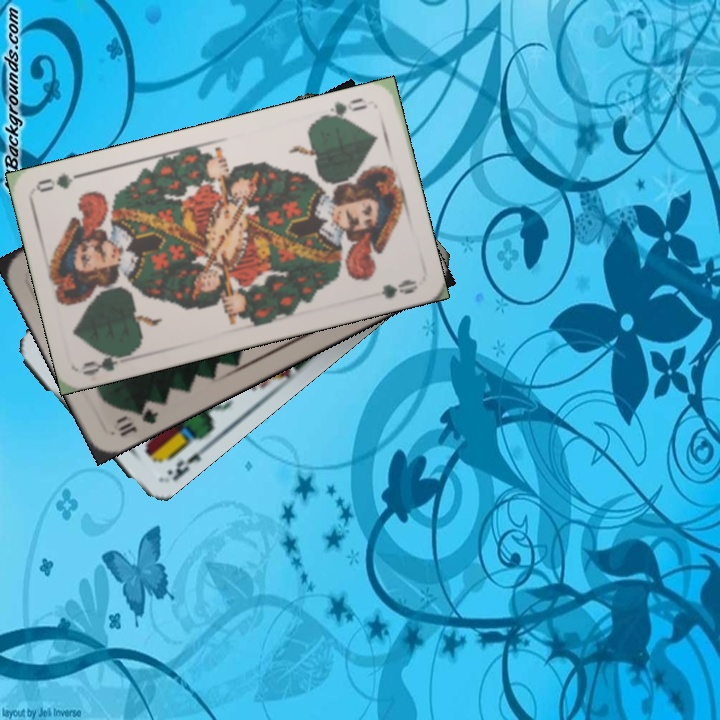EK: (154, 447, 204, 486)
G10: (113, 402, 161, 439)
GO: (79, 347, 137, 379), (316, 93, 370, 123)
